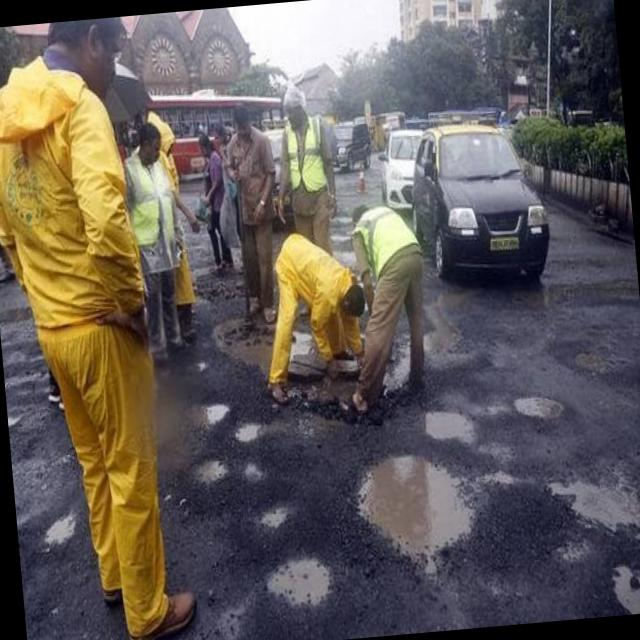Potholes: (352, 442, 494, 596), (548, 450, 640, 620), (256, 548, 346, 620), (506, 371, 576, 445), (256, 487, 300, 532)
